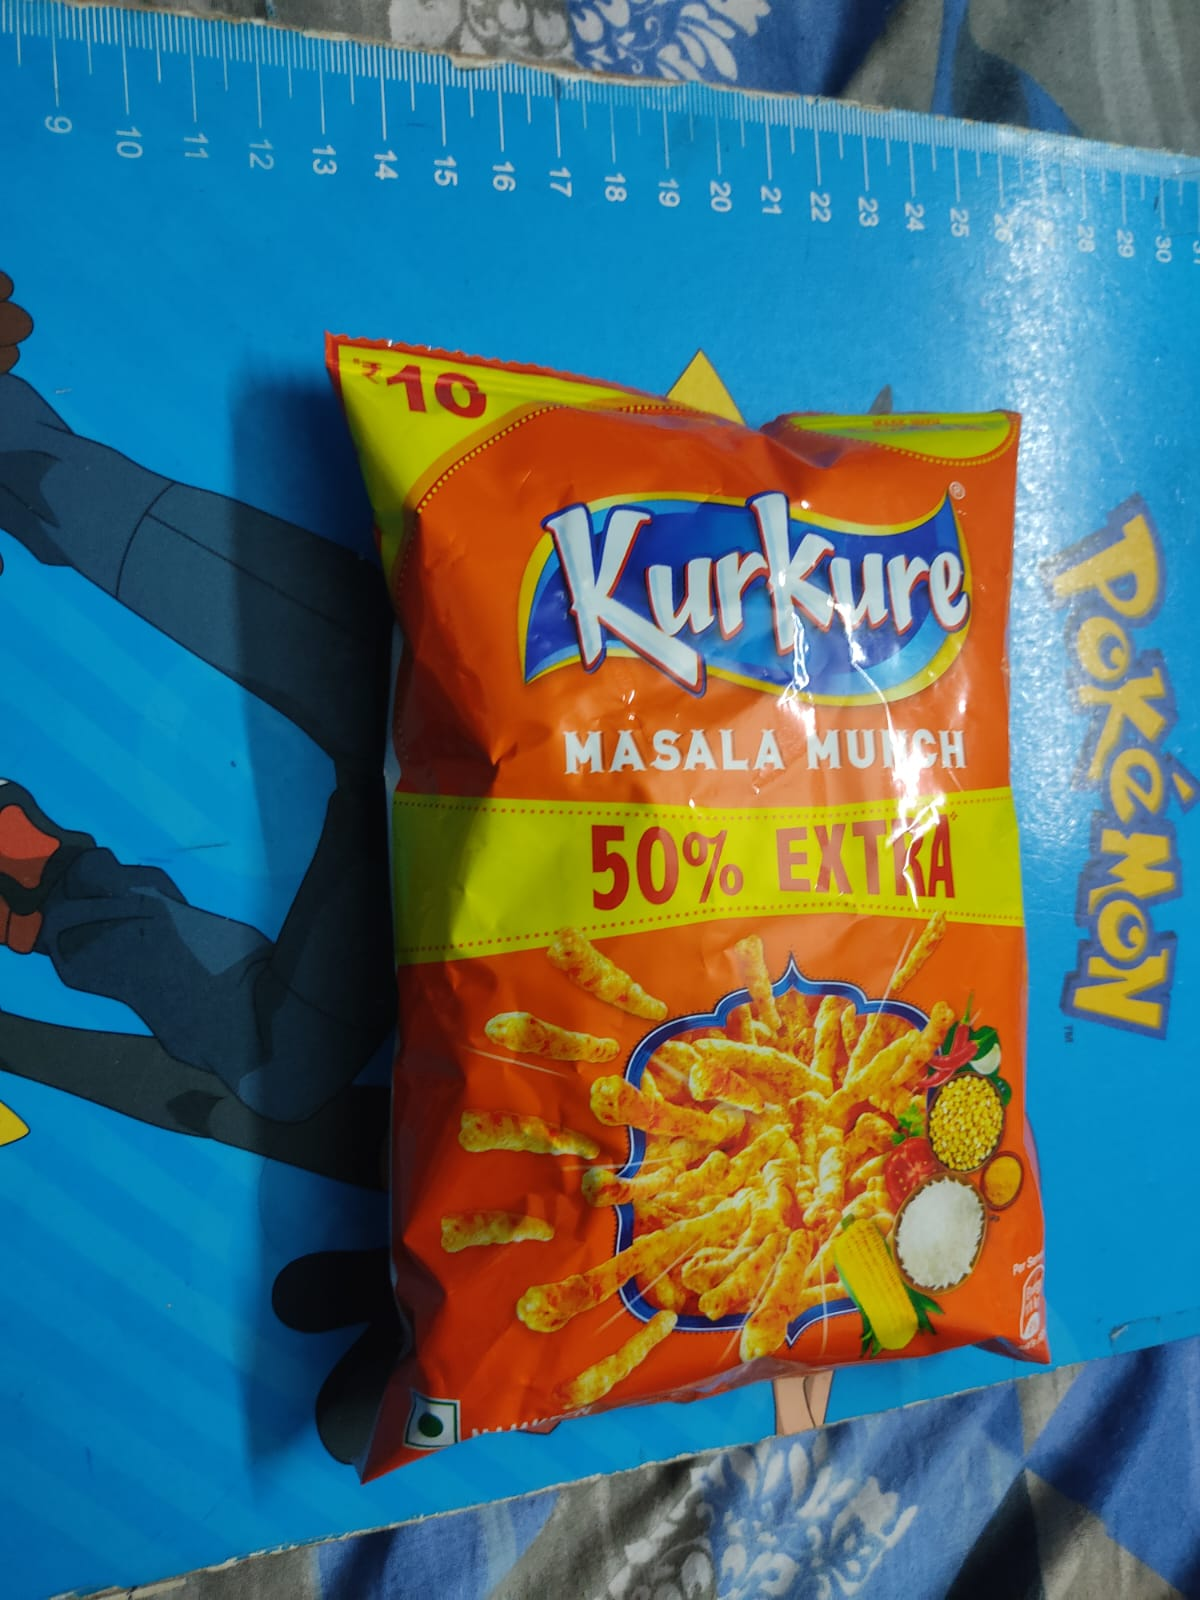010_Kurkure: (345, 360, 1047, 1356)
